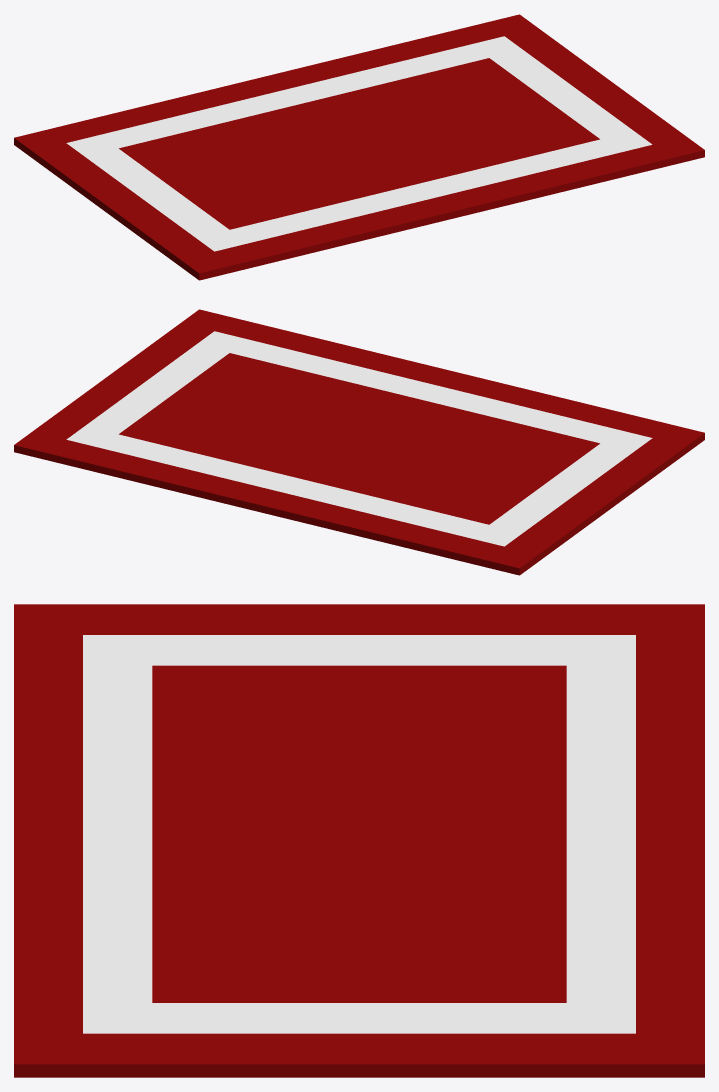
The model's file is tapis.fbx.
3 views of the same model, one above another, from view 1: azimuth 30°, elevation 25°; view 2: azimuth 150°, elevation 25°; view 3: azimuth 270°, elevation 25° (orthographic). The views are drawn at different scales.
Visible parts, largest first — view 1: Tapis; view 2: Tapis; view 3: Tapis.
Boxes of the visible parts, x1,y1,x2,y2 form: Tapis: (14, 14, 704, 280); Tapis: (14, 309, 704, 575); Tapis: (14, 604, 704, 1077).
Size of the model in its own units: 14.93 by 0.2025 by 9.47.
